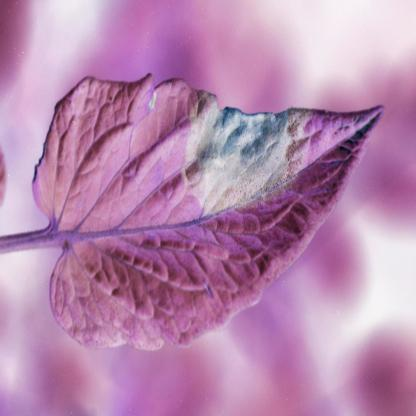tomato leaf late blight: (25, 55, 394, 359)
